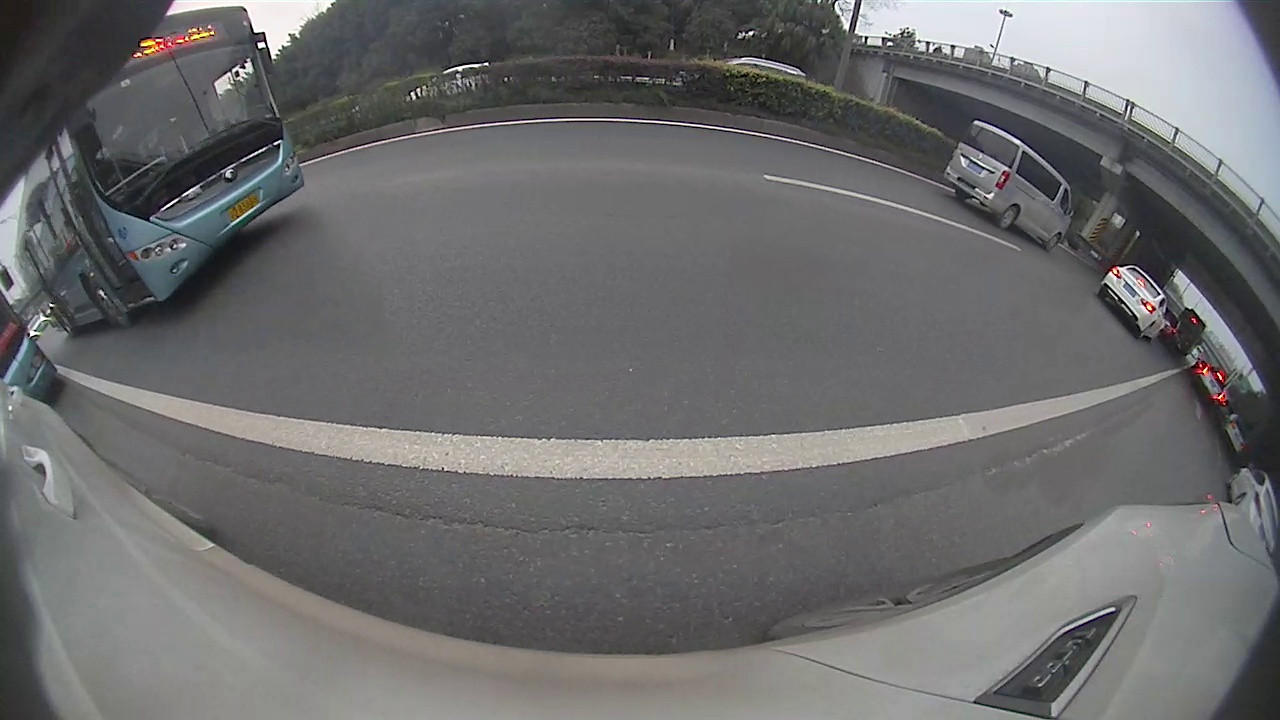bus: (7, 5, 305, 336)
car: (942, 121, 1076, 254), (1097, 266, 1168, 345)
front: (89, 281, 129, 328), (1042, 232, 1061, 251)
rear: (996, 204, 1021, 229)
